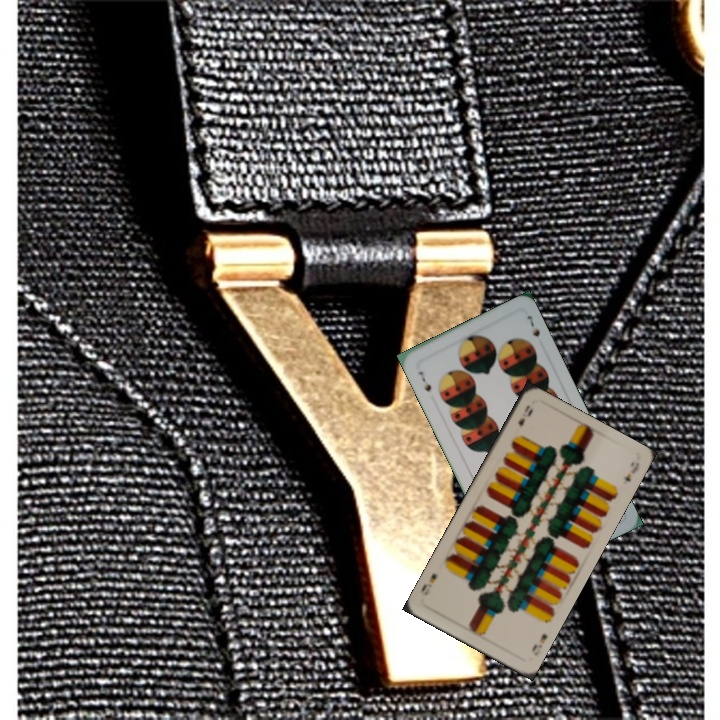E9: (527, 629, 550, 658), (514, 401, 536, 430)
S7: (414, 367, 434, 394)
